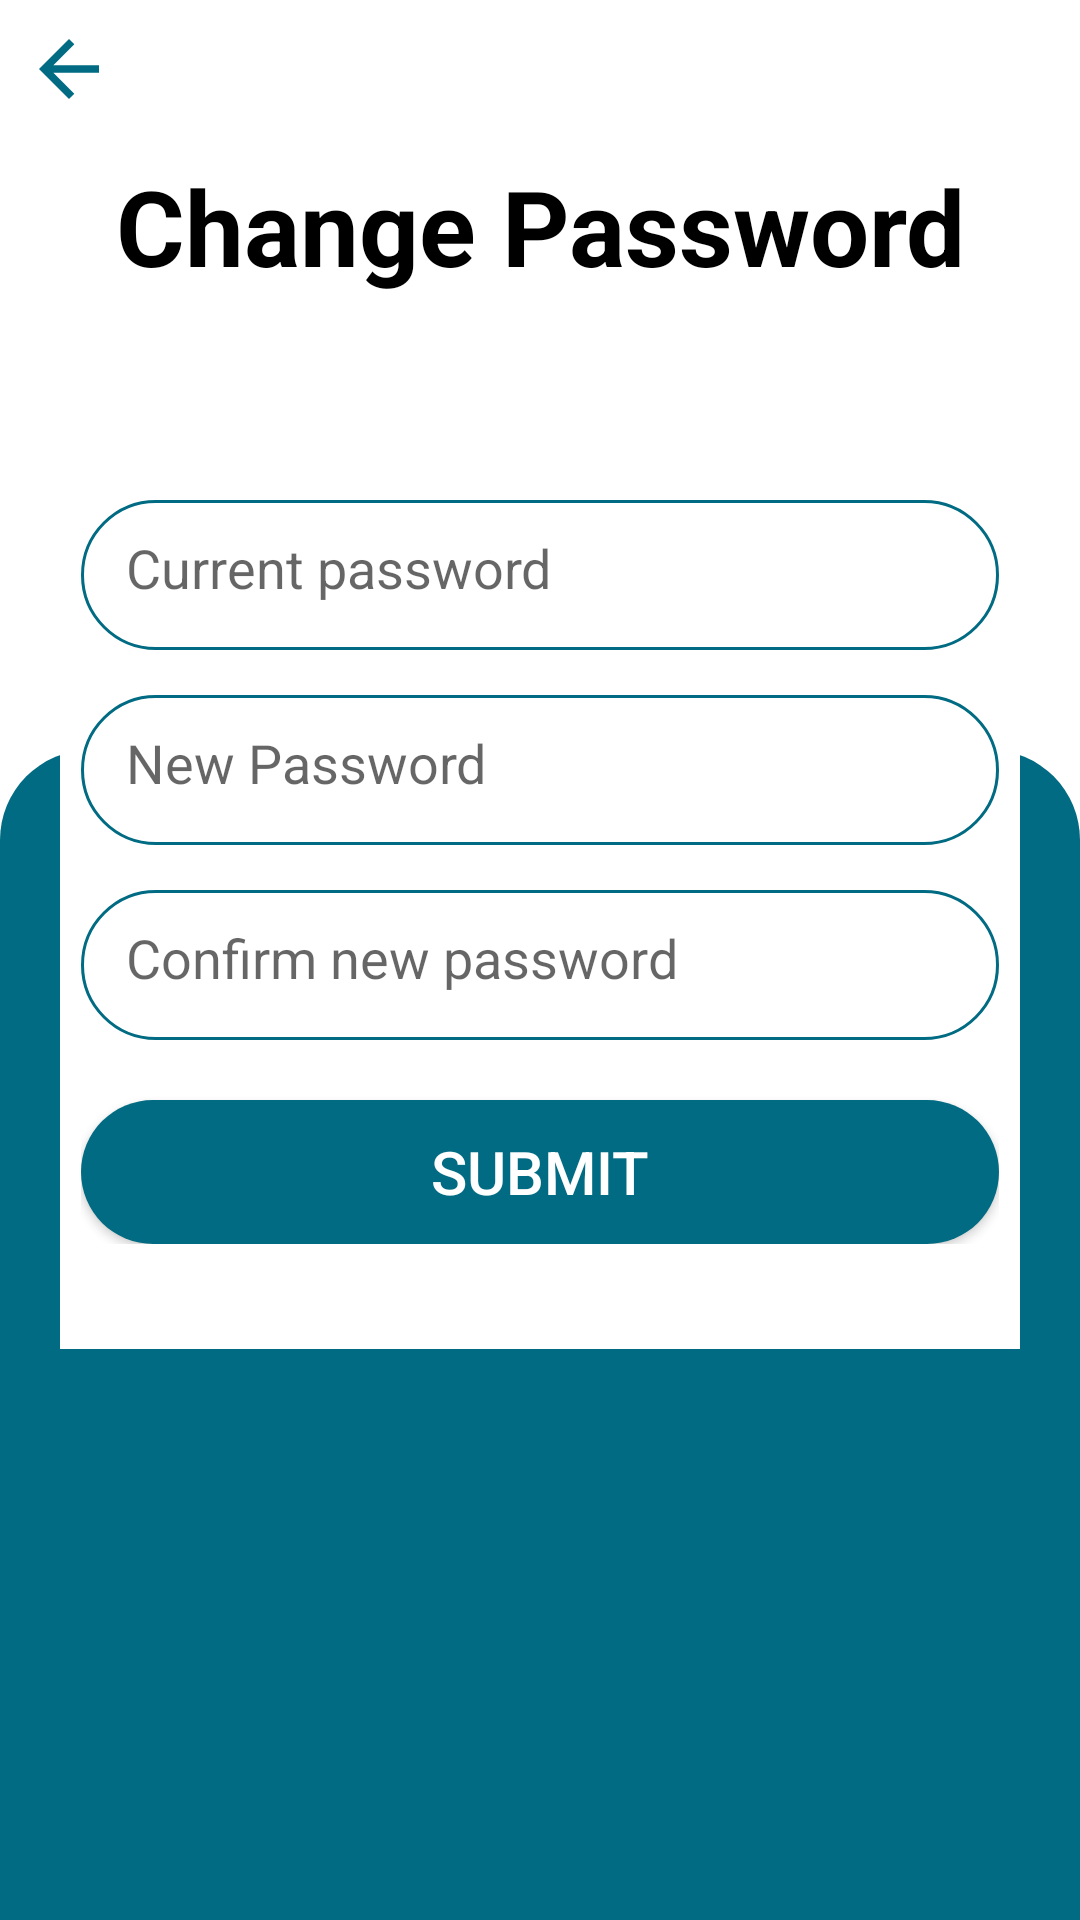

Screen size 1080 x 1920. Icon name, then its box in pixels as (x1, y1, x2, y2):
arrow back: (39, 39, 99, 99)
